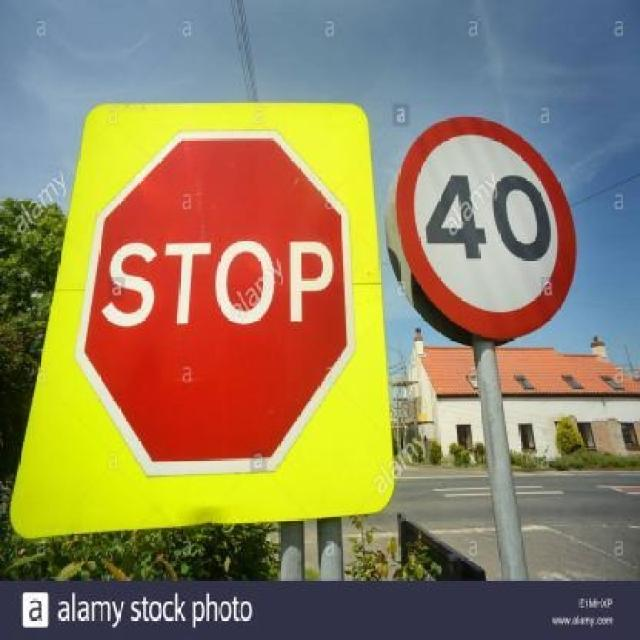forb_speed_over_40: (401, 114, 575, 340)
